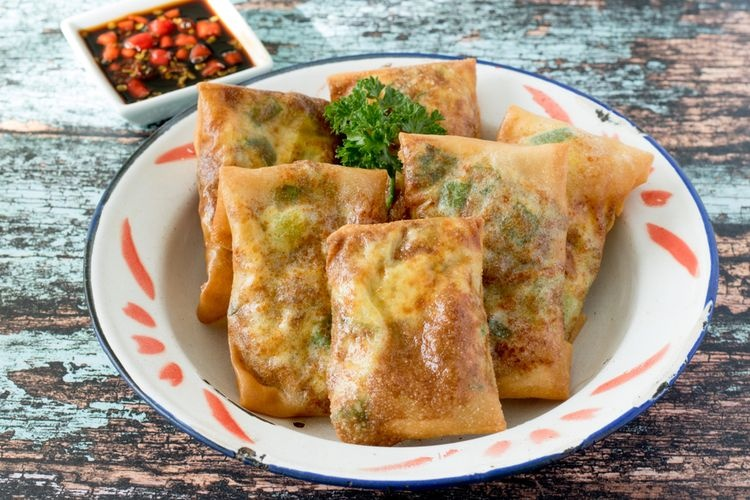martabak: (191, 58, 650, 442)
